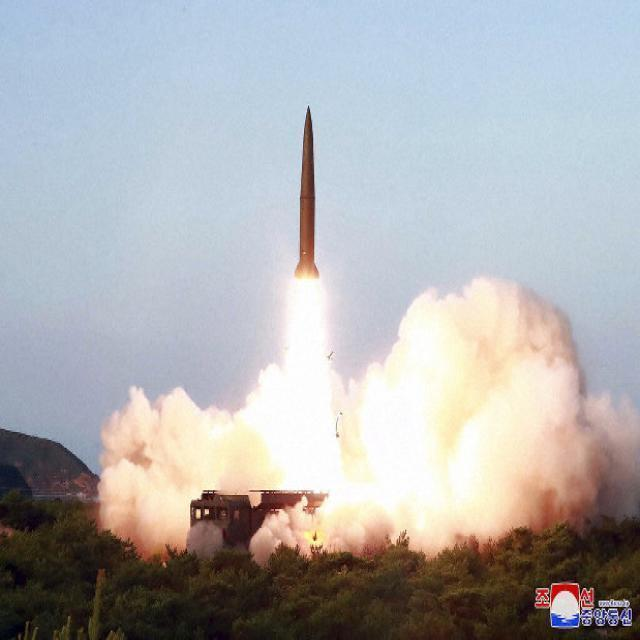missile: (292, 103, 320, 279)
